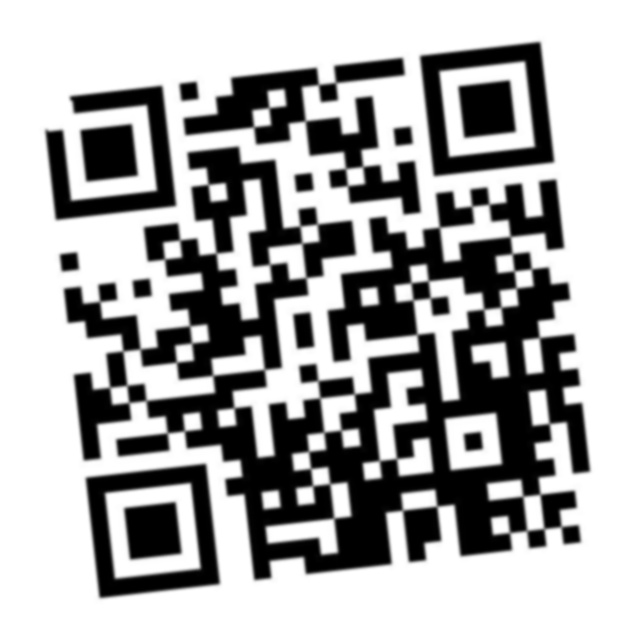qr-code: (14, 20, 625, 620)
